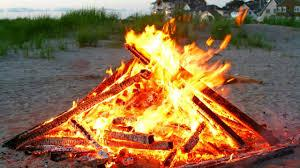fire: (56, 16, 256, 158)
